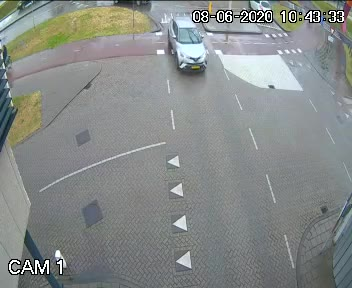car: (158, 11, 236, 108)
